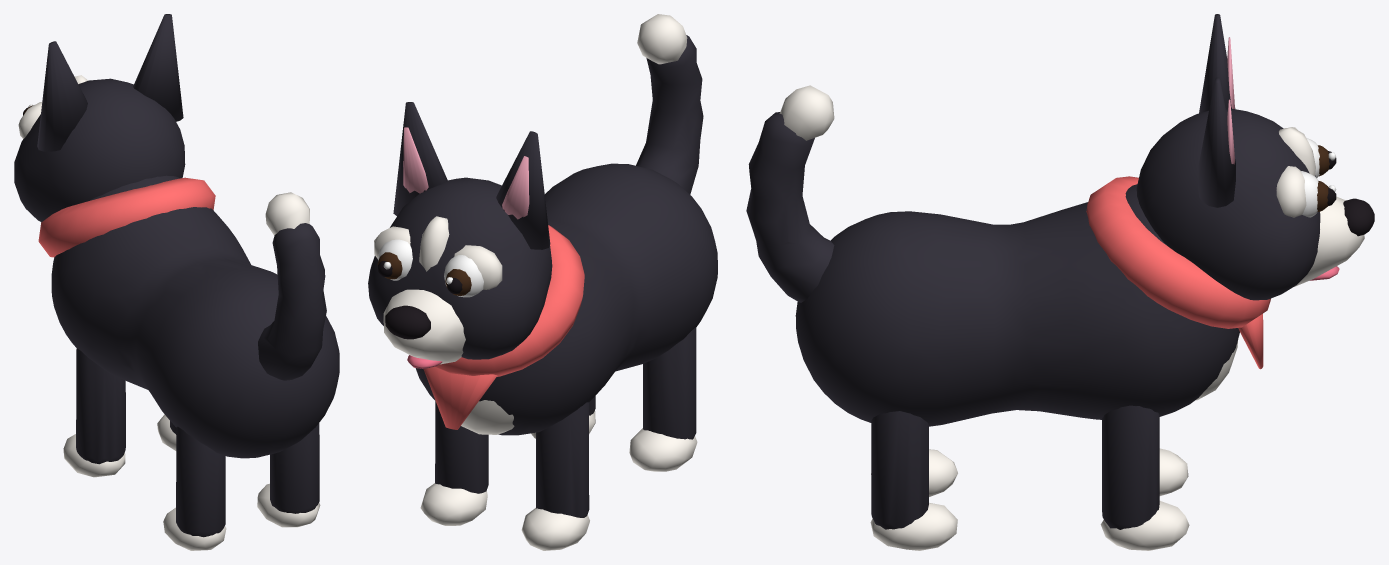
Rendered from dog_husky.glb.
3 renders of one model, left to right at view 1: azimuth 30°, elevation 25°; view 2: azimuth 150°, elevation 25°; view 3: azimuth 270°, elevation 25°, orthographic. The views are drawn at different scales.
Parts seen in each view (by area): view 1: Body, Head, Tail, LegFL, LegBL, LegBR, EarL, EarR, LegFR; view 2: Body, Head, Tail, LegFL, LegBL, LegFR, EarL, EarR; view 3: Body, Head, Tail, LegFR, LegBR, EarR, EarL, LegFL, LegBL.
Boxes of the visible parts, bbox=[...] form: Body: bbox=[38, 175, 339, 458]; Head: bbox=[14, 75, 185, 222]; Tail: bbox=[258, 192, 326, 380]; LegFL: bbox=[63, 348, 125, 477]; LegBL: bbox=[163, 426, 226, 550]; LegBR: bbox=[257, 423, 320, 527]; EarL: bbox=[37, 41, 87, 151]; EarR: bbox=[133, 14, 183, 121]; LegFR: bbox=[157, 414, 176, 450]; Body: bbox=[415, 163, 717, 435]; Head: bbox=[368, 177, 552, 368]; Tail: bbox=[636, 14, 703, 194]; LegFL: bbox=[521, 402, 589, 550]; LegBL: bbox=[629, 327, 697, 471]; LegFR: bbox=[420, 401, 488, 525]; EarL: bbox=[496, 131, 550, 249]; EarR: bbox=[393, 102, 447, 215]; Body: bbox=[795, 176, 1270, 426]; Head: bbox=[1136, 109, 1374, 300]; Tail: bbox=[746, 85, 834, 302]; LegFR: bbox=[1100, 405, 1189, 550]; LegBR: bbox=[870, 411, 957, 550]; EarR: bbox=[1198, 77, 1235, 207]; EarL: bbox=[1199, 14, 1235, 113]; LegFL: bbox=[1159, 448, 1188, 495]; LegBL: bbox=[871, 449, 957, 496].
Size of the model in its own units: 0.4648 by 1.09 by 1.31.
